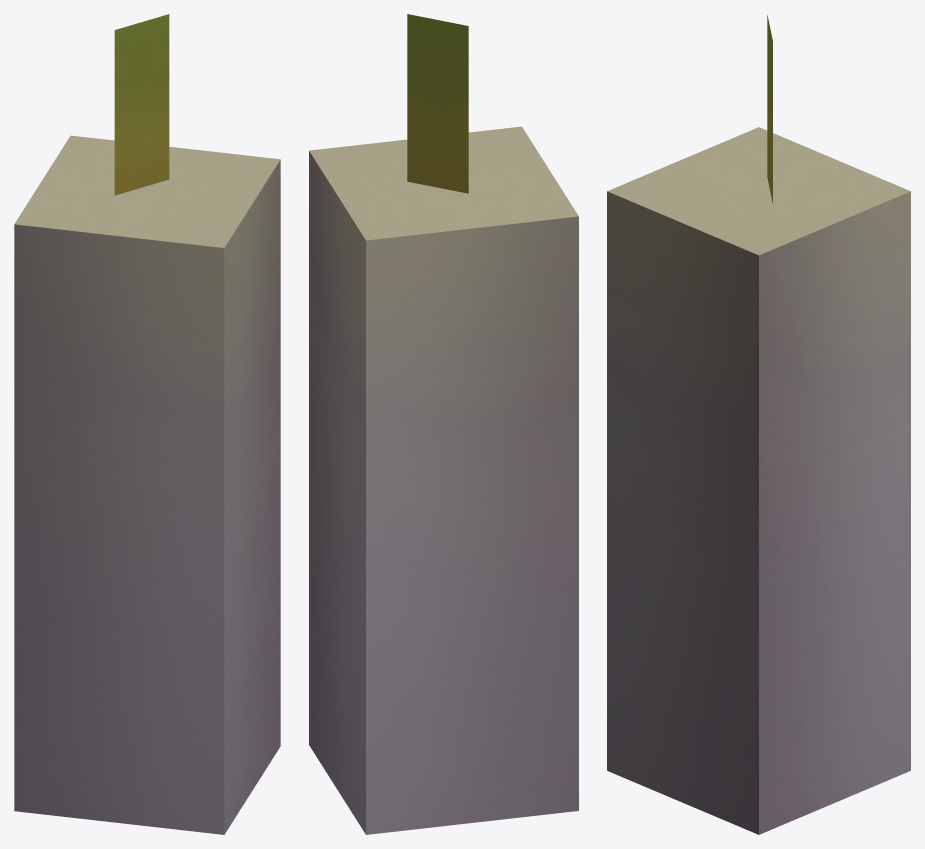
Rendered from Boss_12.FBX.
The picture shows the model from 3 angles, left to right: view 1: azimuth 30°, elevation 25°; view 2: azimuth 150°, elevation 25°; view 3: azimuth 270°, elevation 25°; orthographic projection. The views are drawn at different scales.
Parts seen in each view (by area): view 1: Boss_12; view 2: Boss_12; view 3: Boss_12.
Boxes of the visible parts, x1=… form: Boss_12: x1=14, y1=14, x2=280, y2=834; Boss_12: x1=309, y1=14, x2=578, y2=834; Boss_12: x1=607, y1=15, x2=910, y2=834.
Size of the model in its own units: 0.2619 by 0.7068 by 0.2619.
